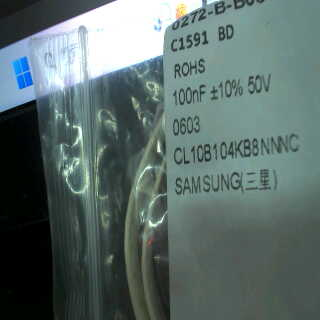100nF: (170, 81, 206, 111)
